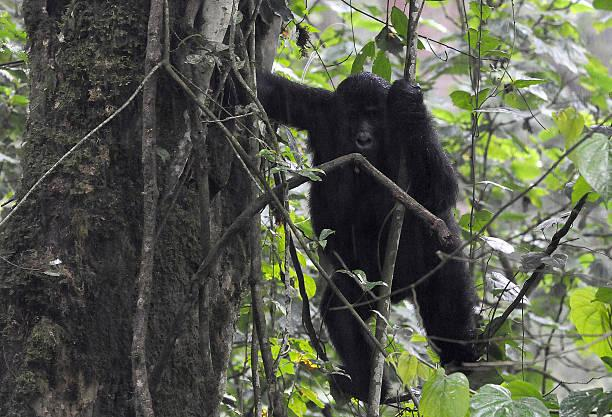goriile_montagne: (248, 50, 520, 397)
